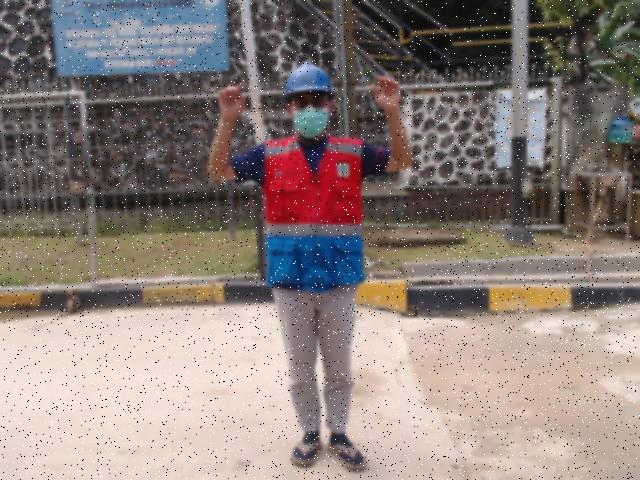helmet: (283, 59, 335, 96)
mask: (291, 106, 330, 138)
